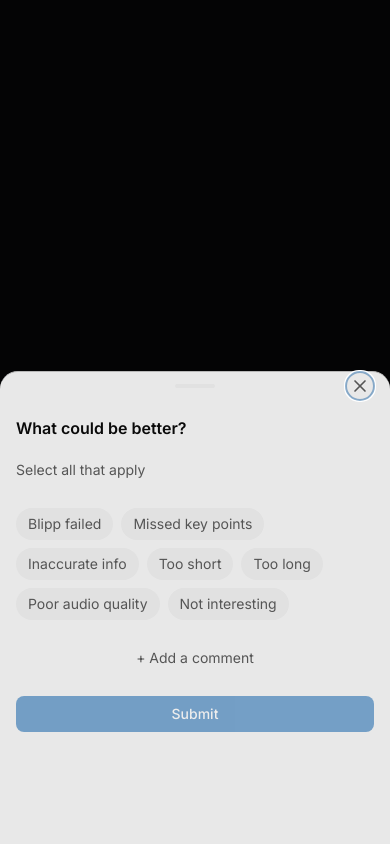
it: BlippFeedbackSheet › shows freeform text field on tap
The image size is (390, 844).
Expected: the field with placeholder "Tell us more..." is not shown
Note: Click the expand button
Click the button "+ Add a comment": x=195, y=658 [16,648,374,668]
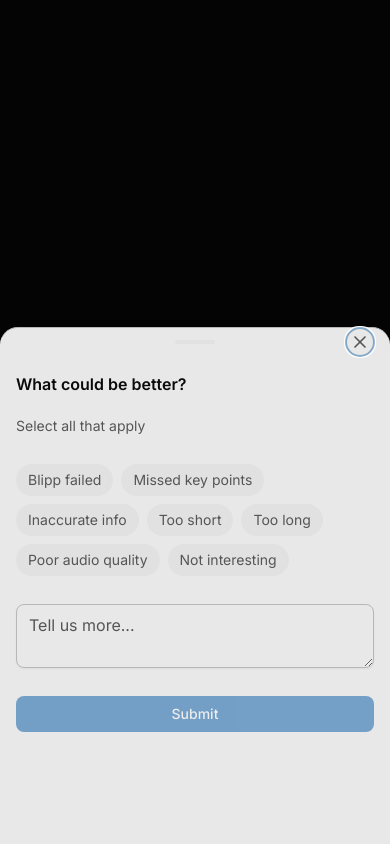
Expected: the text box with placeholder "Tell us more..." is shown, [16,604,374,668]
